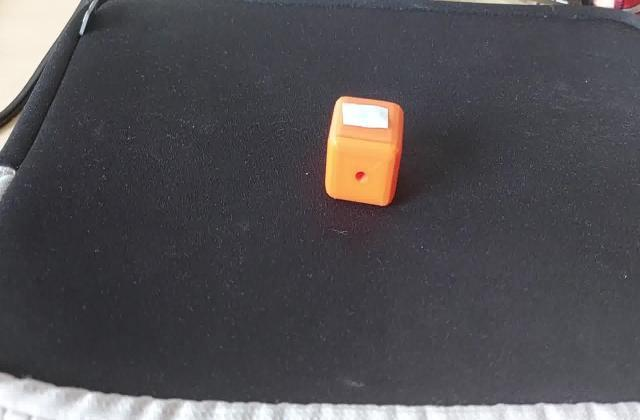cube: (324, 92, 408, 212)
white: (340, 102, 394, 134)
